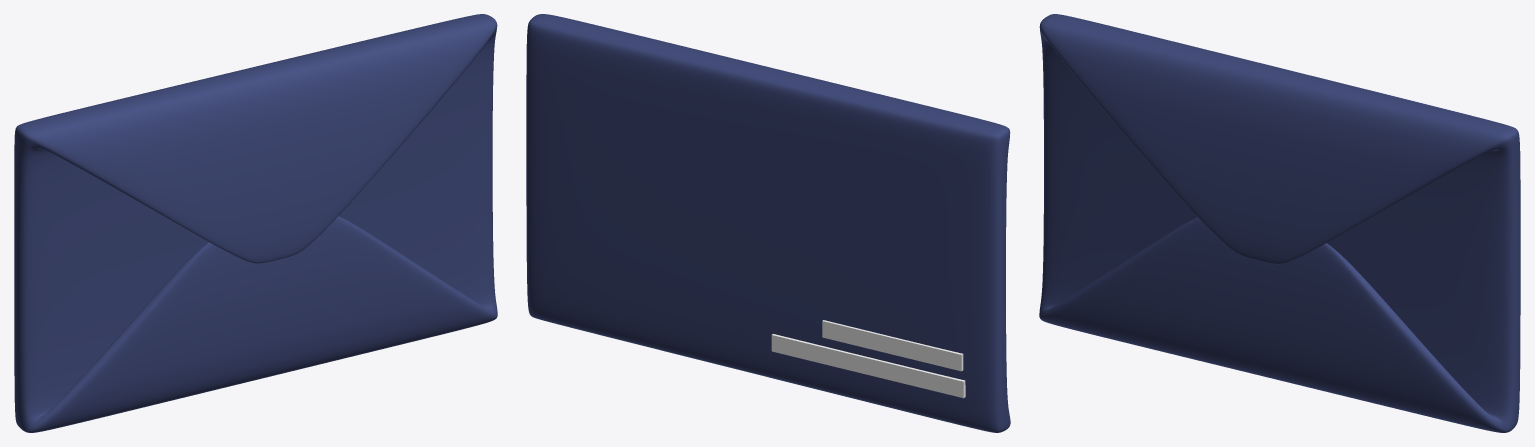
3 views of the same model, side by side, from view 1: azimuth 30°, elevation 25°; view 2: azimuth 150°, elevation 25°; view 3: azimuth 330°, elevation 25° (orthographic).
Visible parts, largest first — view 1: Cube; view 2: Cube, Cube002, Cube003; view 3: Cube.
Part boxes in pixels (left/top/right/bottom): Cube: left=14, top=14, right=497, bottom=432; Cube: left=526, top=14, right=1010, bottom=432; Cube002: left=771, top=334, right=965, bottom=398; Cube003: left=822, top=320, right=963, bottom=371; Cube: left=1039, top=14, right=1520, bottom=432.
Bounding box in the file's own units: 2 × 1.22 × 0.245.
